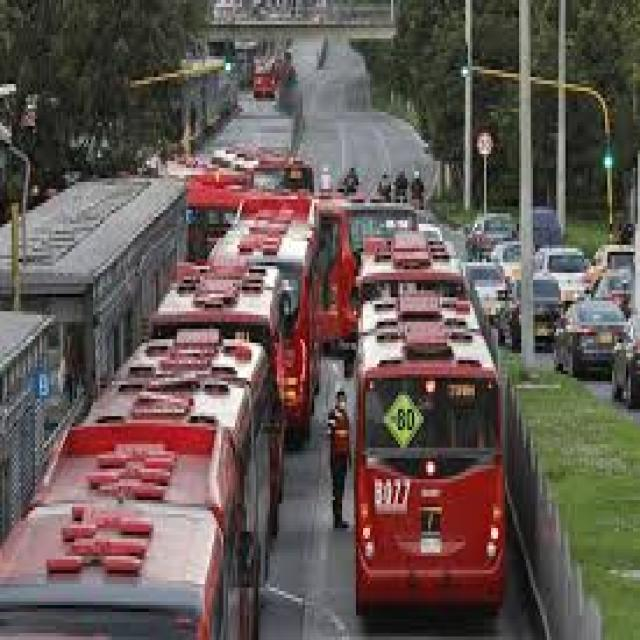BUS: (351, 265, 508, 629)
